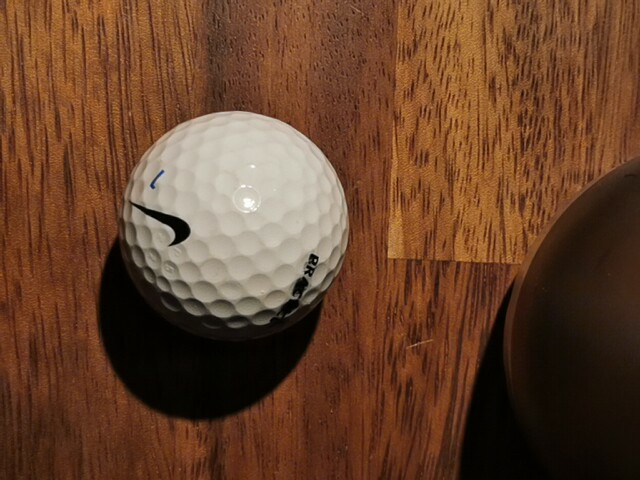Ball: (119, 110, 348, 342)
Nike: (128, 200, 191, 247)
